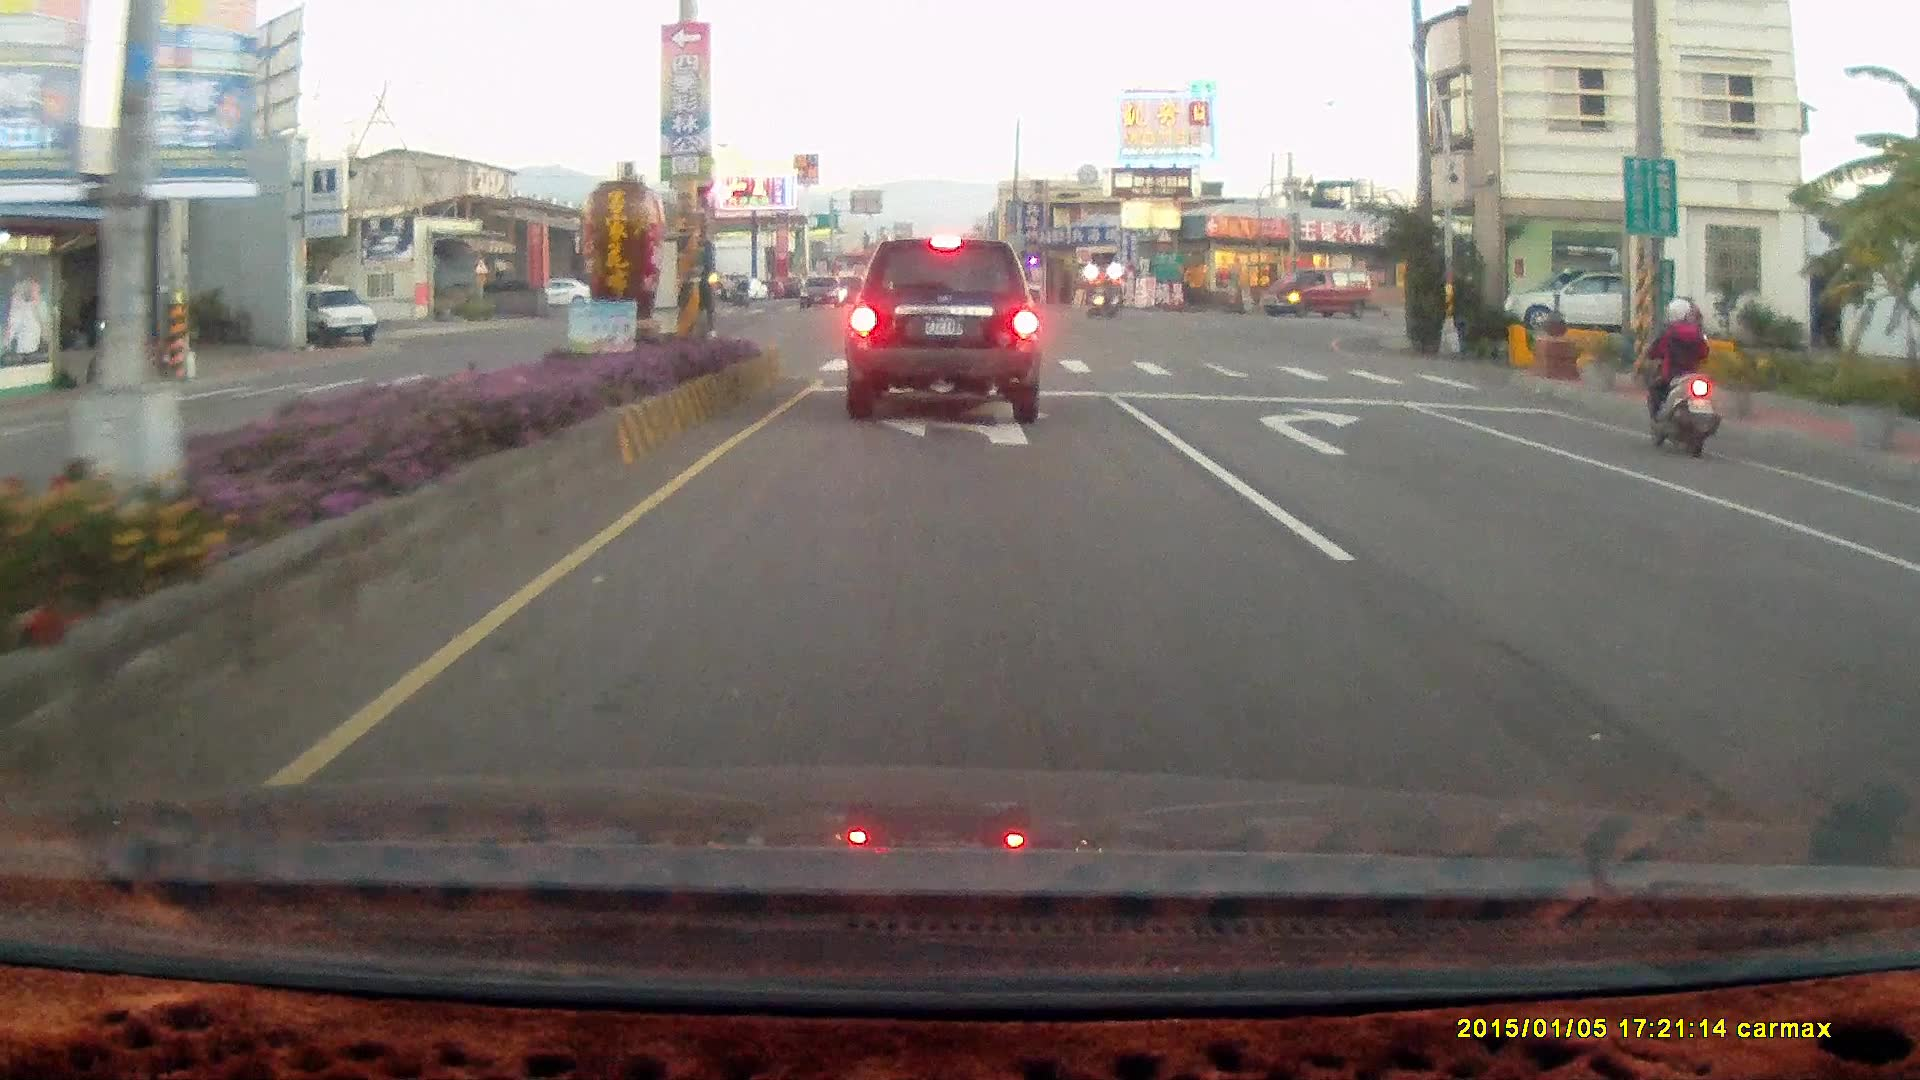rider: (1641, 294, 1719, 459), (1082, 270, 1123, 319)
vehicle: (843, 237, 1042, 423), (1501, 266, 1667, 333), (1896, 493, 1920, 836), (1507, 273, 1636, 335), (1883, 528, 1920, 690), (290, 282, 381, 347), (1261, 266, 1374, 316), (1261, 268, 1370, 318), (930, 273, 1041, 319)
